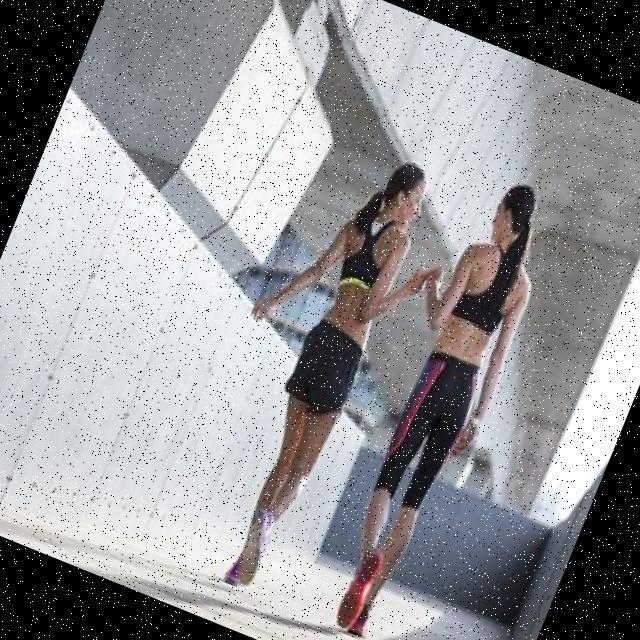Person: (154, 128, 466, 608), (294, 164, 572, 640)
